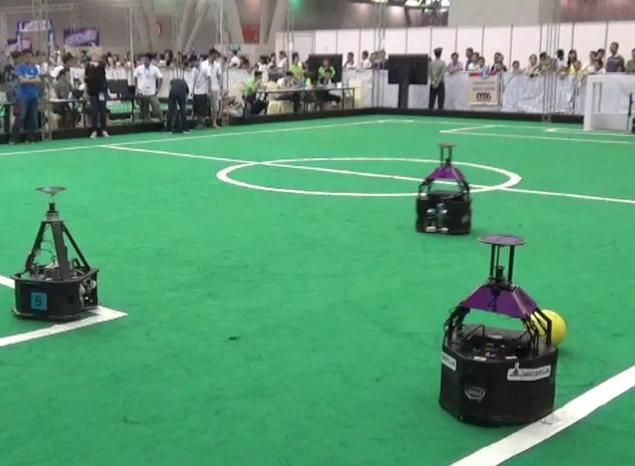robot: (434, 233, 560, 426), (8, 185, 106, 324), (408, 137, 478, 236)
